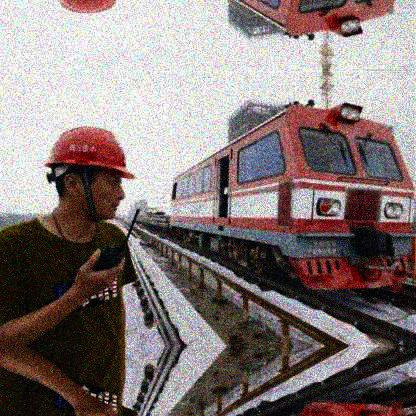helmet: (43, 126, 135, 223)
